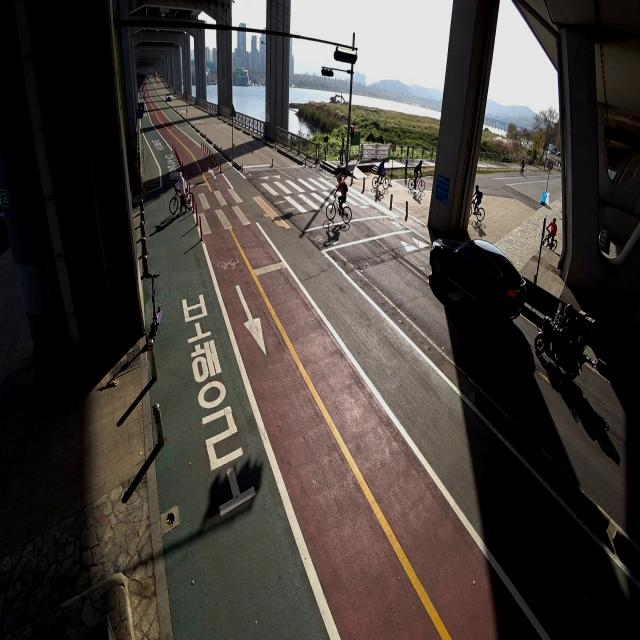Car: (428, 223, 531, 332), (160, 88, 174, 107)
Motorcycle: (534, 300, 596, 382)
